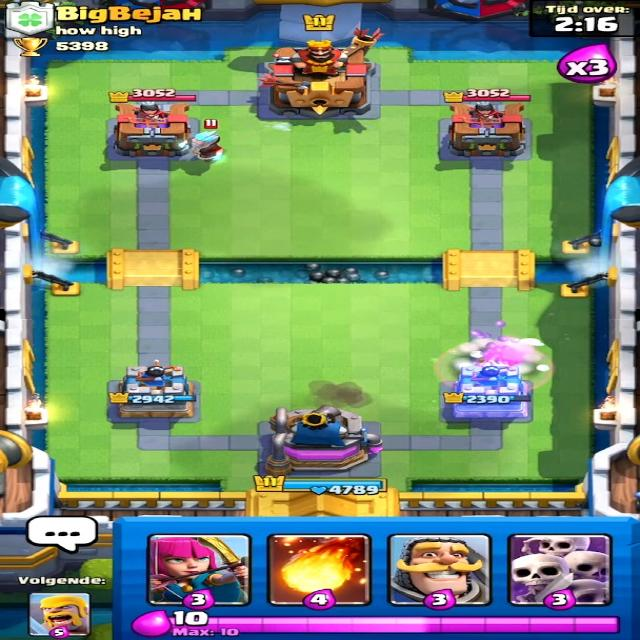Enemy_Ice_Wizard_Troop: (182, 128, 228, 164)
Fireball_Card: (270, 531, 374, 606)
